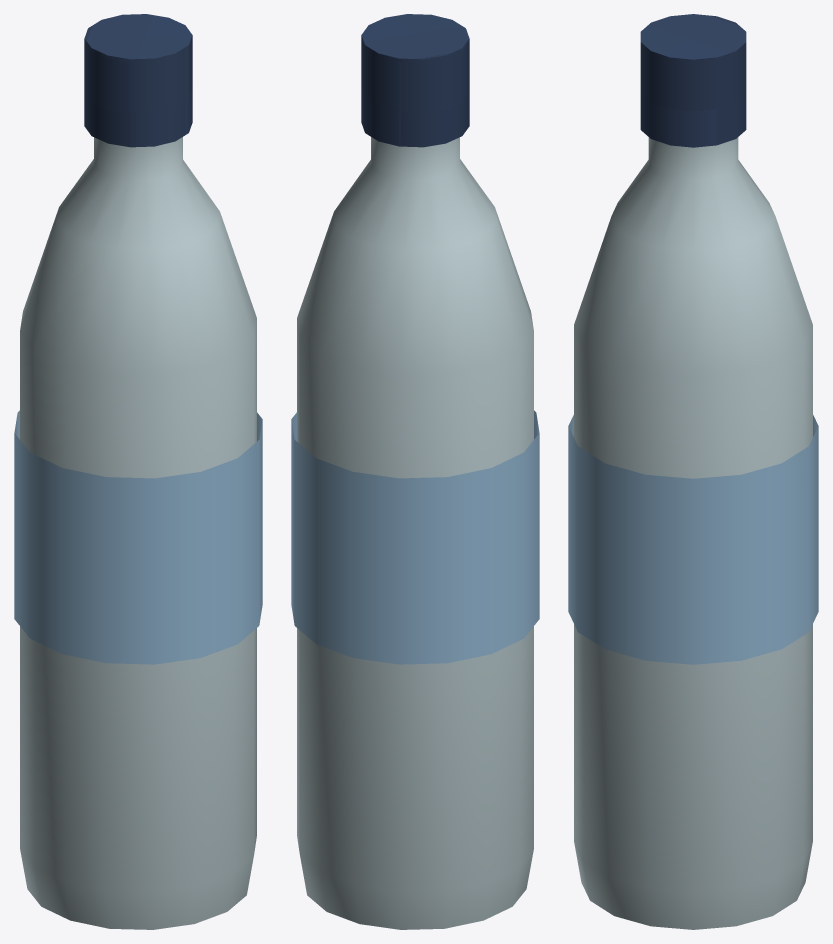
File: bottle_water.glb
3 renders of one model, left to right at view 1: azimuth 30°, elevation 25°; view 2: azimuth 150°, elevation 25°; view 3: azimuth 270°, elevation 25°, orthographic.
Parts seen in each view (by area): view 1: bottle_water; view 2: bottle_water; view 3: bottle_water.
Part boxes in pixels (x1,y1,x2,y2): bottle_water: (14, 14, 262, 929); bottle_water: (291, 14, 539, 929); bottle_water: (568, 14, 818, 929).
Bounding box in the file's own units: 0.067 × 0.25 × 0.067.
3 materials, 1 textured.
